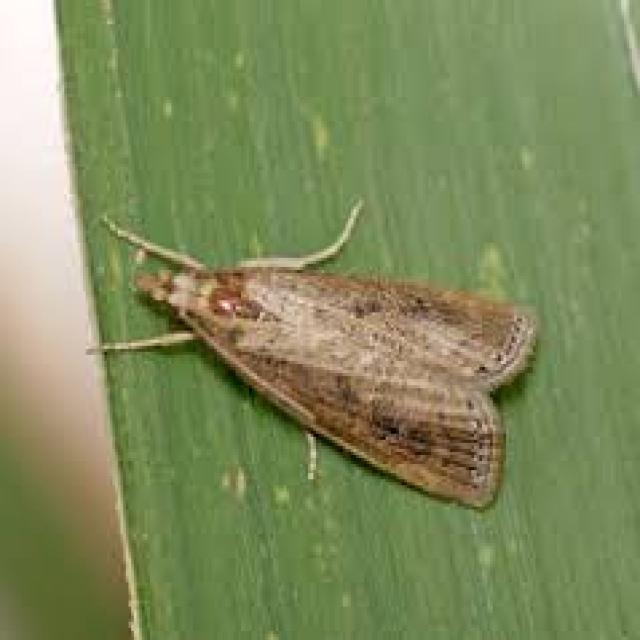yellow-stem-borer: (81, 198, 586, 527)
